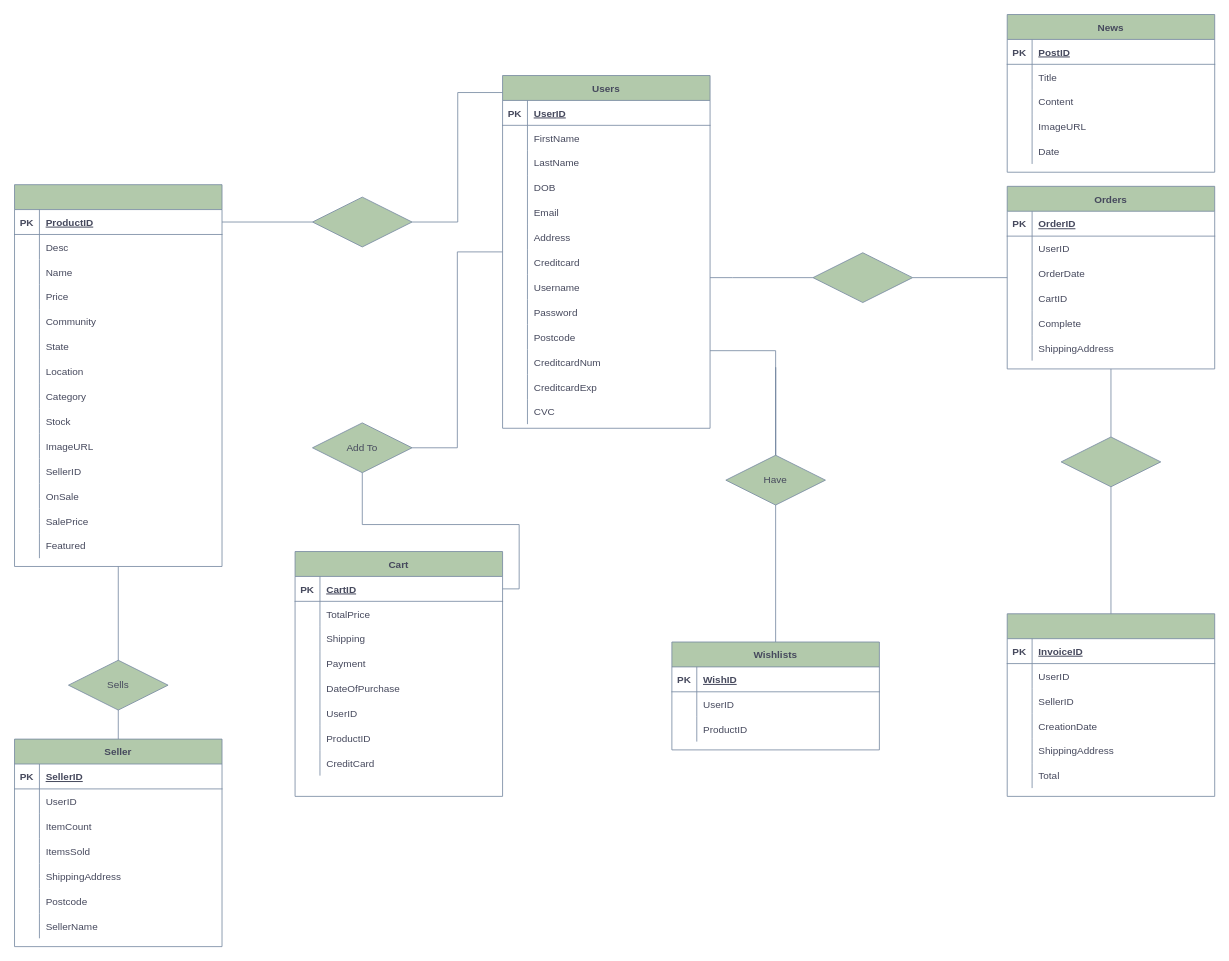
Some shapes in this 1229 by 961 pixel diagram are drawn without their labels. Each missing label, with the box of its shape:
Create: (1060, 436, 1161, 487)
Invoices: (1006, 613, 1215, 796)
Make: (812, 252, 913, 303)
Products: (14, 184, 222, 566)
Purchase: (312, 196, 412, 247)
